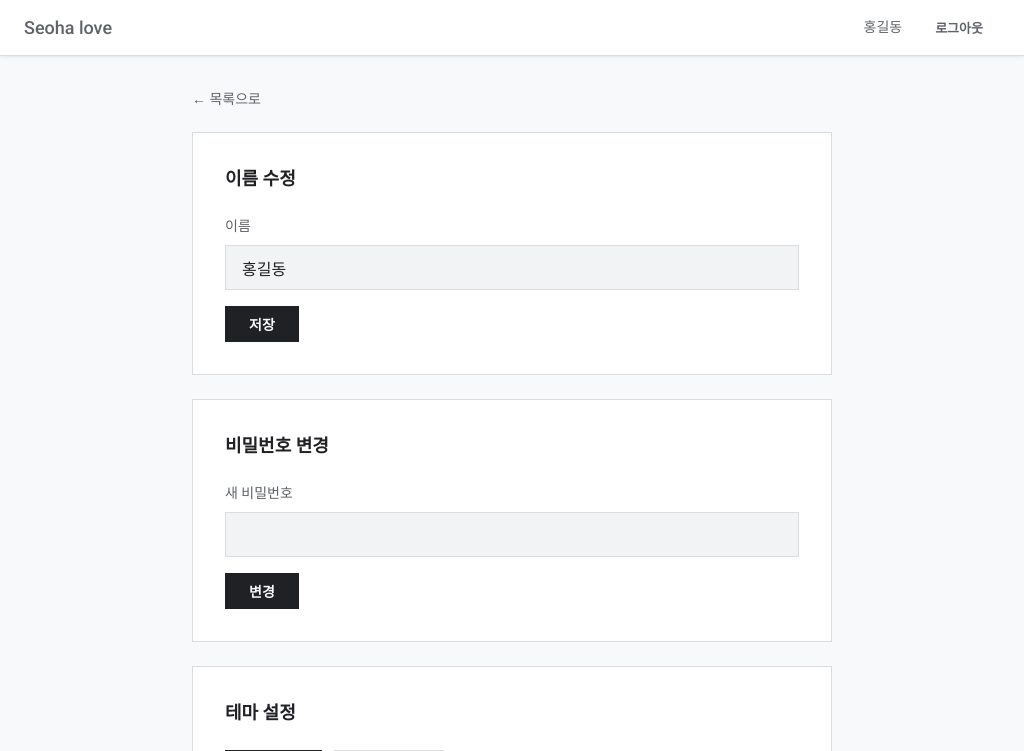
it: ProfilePage › 비밀번호 변경 성공 시 성공 메시지가 표시된다
The image size is (1024, 751).
Type "newpass123" into the password field labelled "새 비밀번호" at {"x": 512, "y": 534}, box [225, 512, 799, 557]
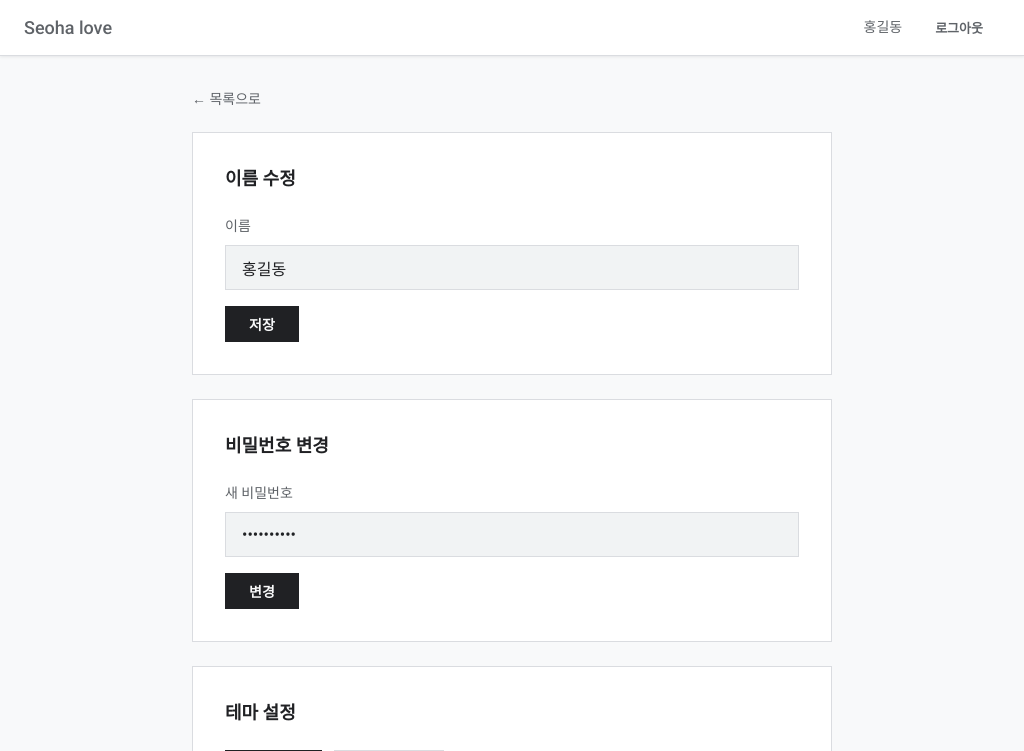
Click the button with test id "save-password-button" at {"x": 262, "y": 591}, box [225, 573, 299, 609]
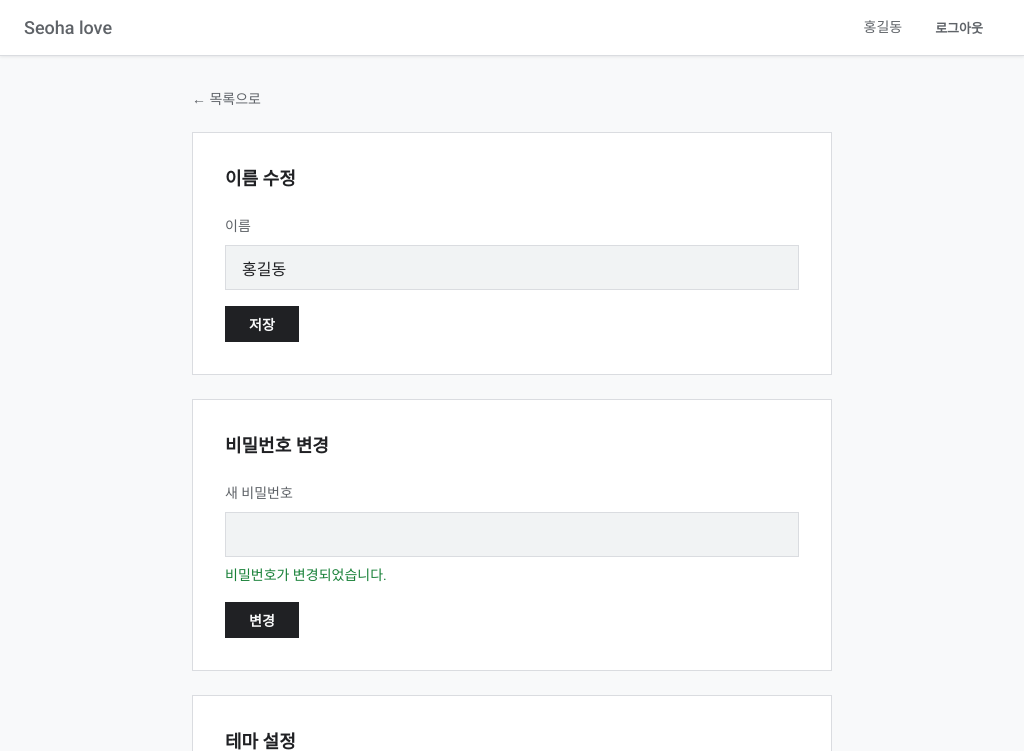
Check: the text "비밀번호가 변경되었습니다." is shown, box [225, 567, 387, 583]
